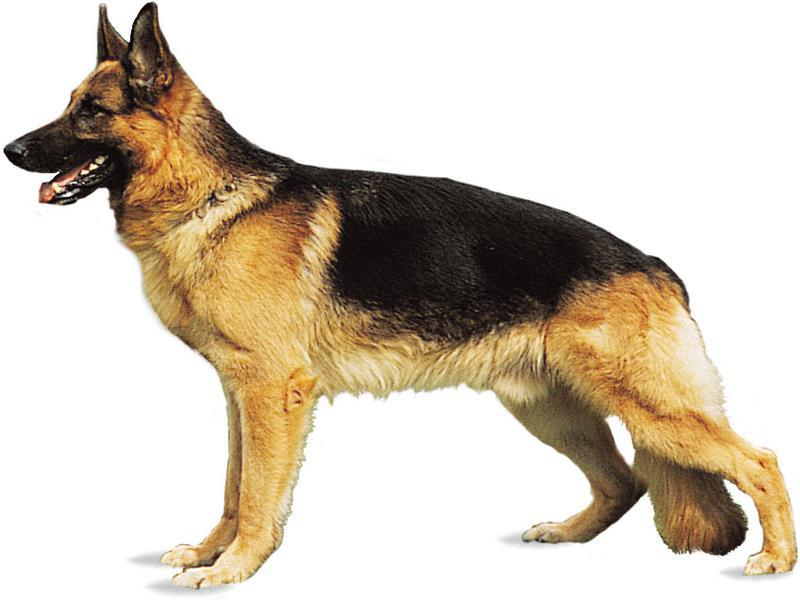dog: (9, 3, 800, 583)
